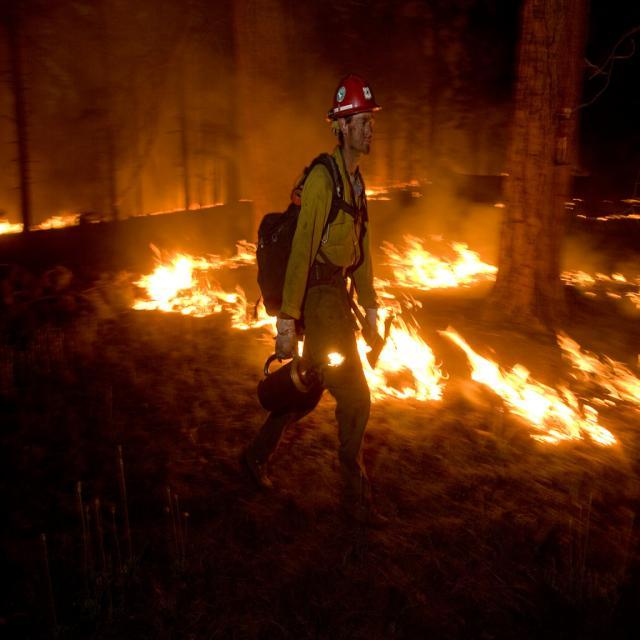Fire: (402, 228, 490, 284), (374, 318, 435, 397), (142, 252, 202, 306), (482, 353, 542, 400), (474, 366, 495, 376)
